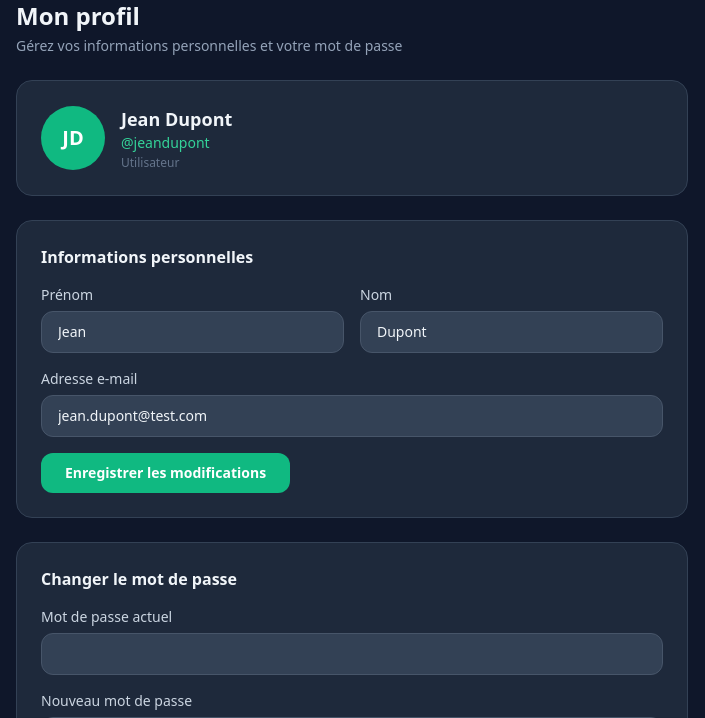
it: ProfilePage › Formulaire mot de passe › affiche une erreur si le nouveau mot de passe est trop court
This screenshot has width=705, height=718.
Type "ancienmdp" into the password field labelled "Mot de passe actuel" at (352, 654), box [41,633,663,675]
(page scrolled)
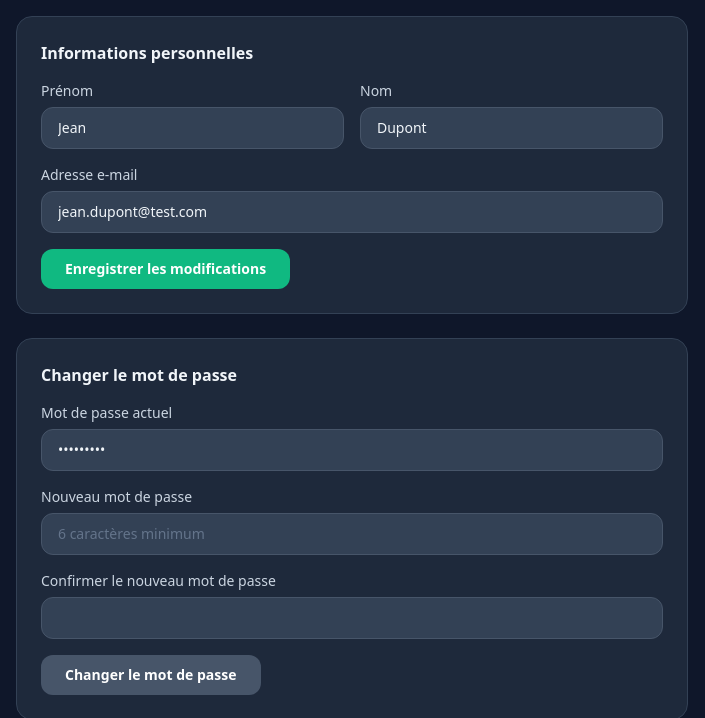
Type "abc" into the password field labelled "Nouveau mot de passe" at (352, 534), box [41,513,663,555]
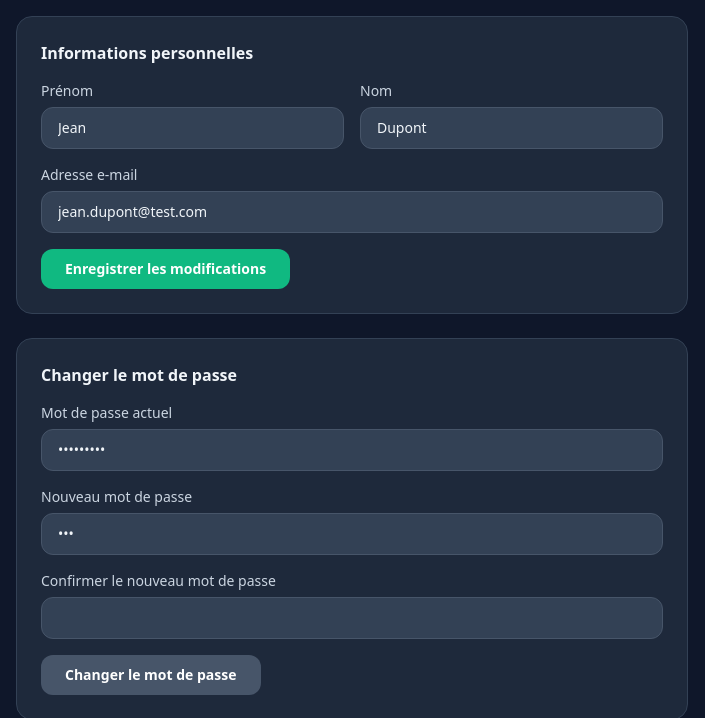
Type "abc" into the password field labelled "Confirmer le nouveau mot de passe" at (352, 618), box [41,597,663,639]
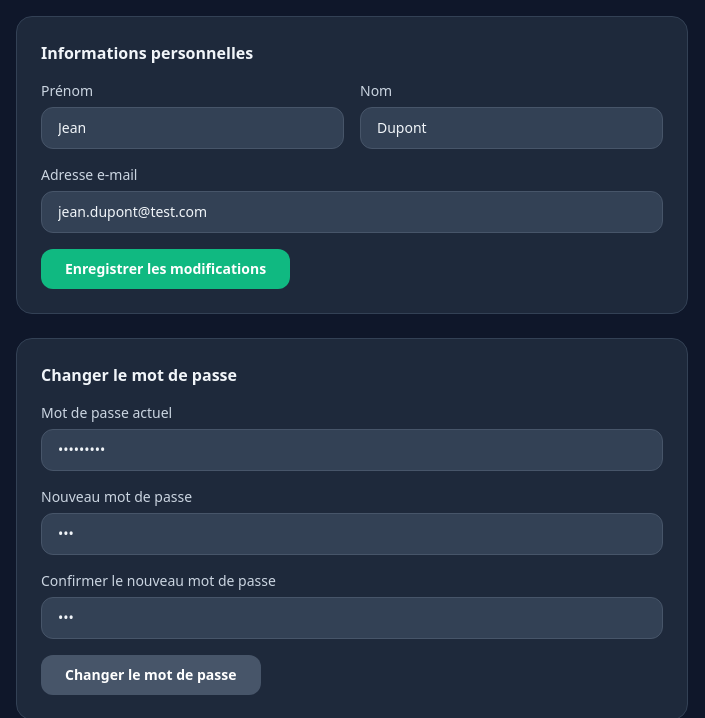
Click the button "Changer le mot de passe" at (151, 675), box [41,655,260,695]
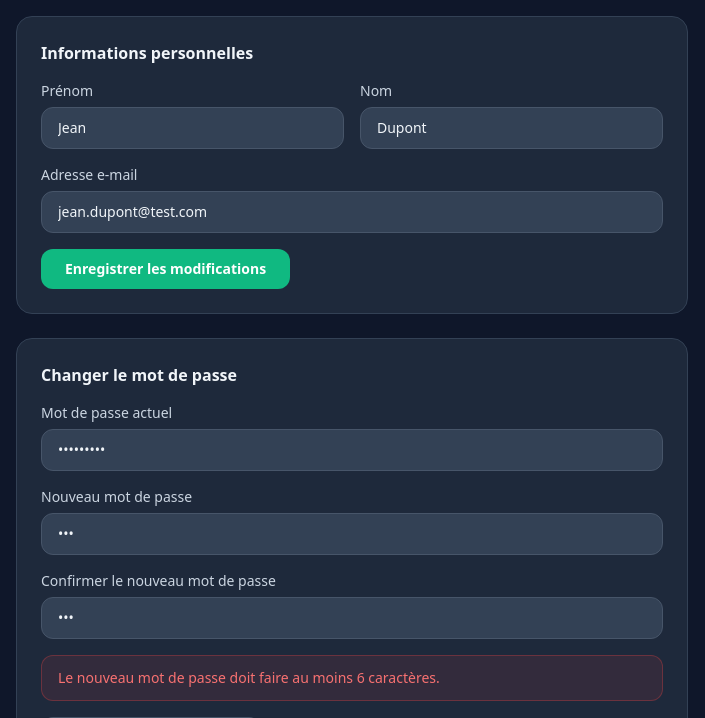
Now the text "Le nouveau mot de passe doit faire au moins 6 caractères." is shown, box [41,655,663,701]
